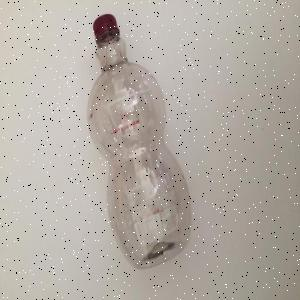Plastic-bottle: (86, 14, 193, 272)
